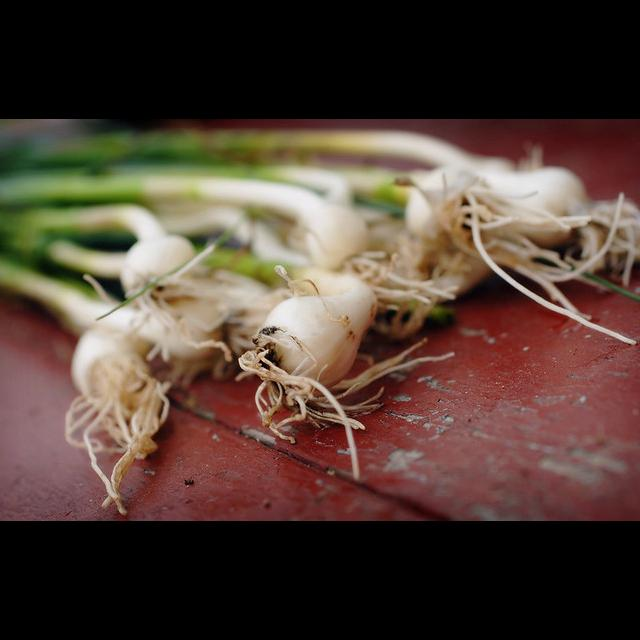green_onion: (0, 131, 640, 514)
